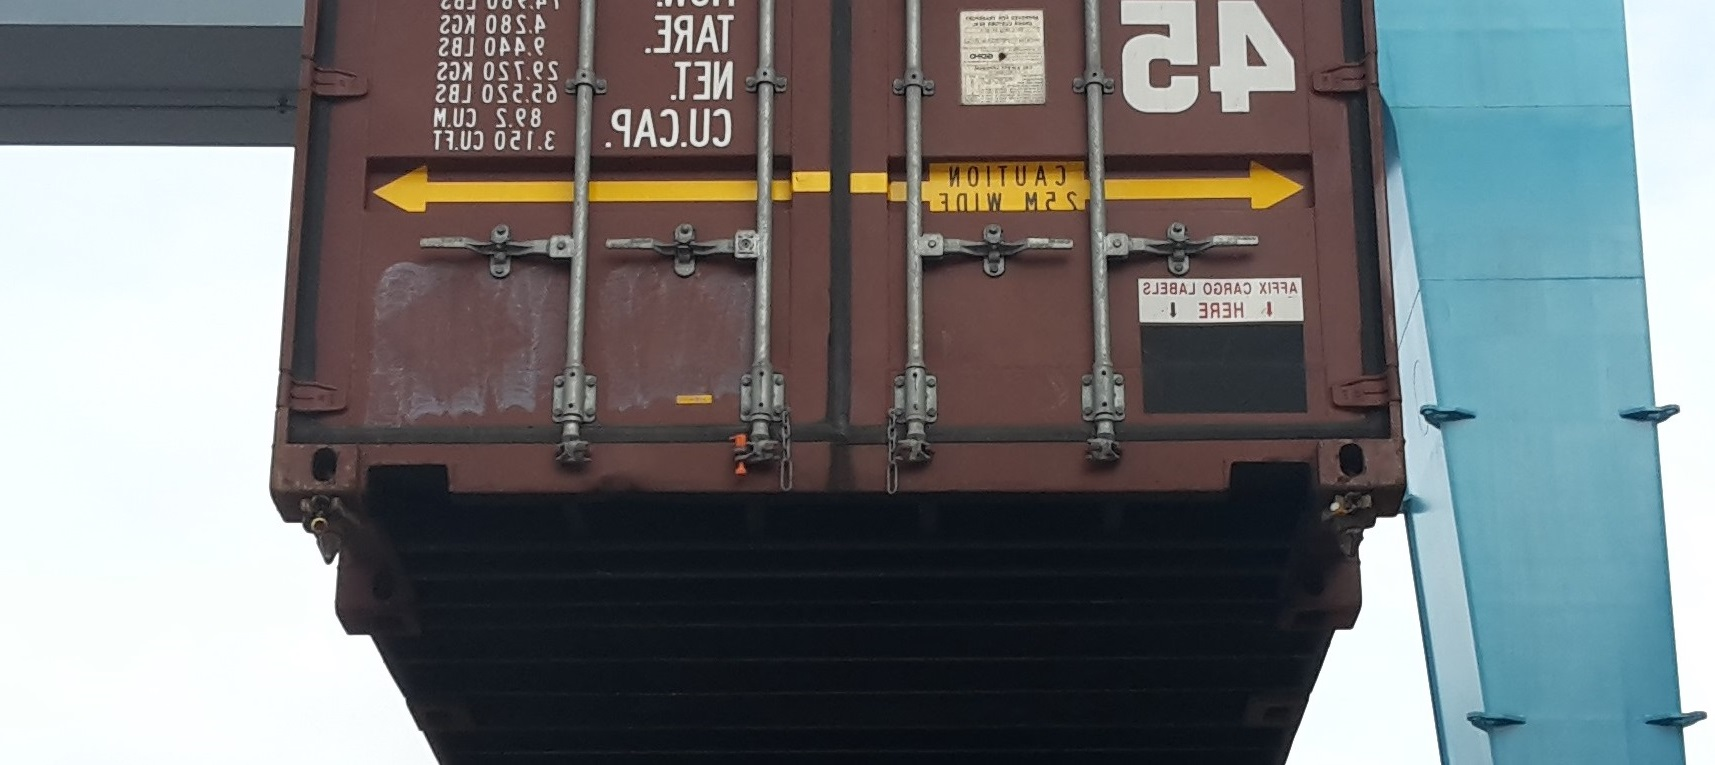container_door: (250, 9, 1380, 494)
